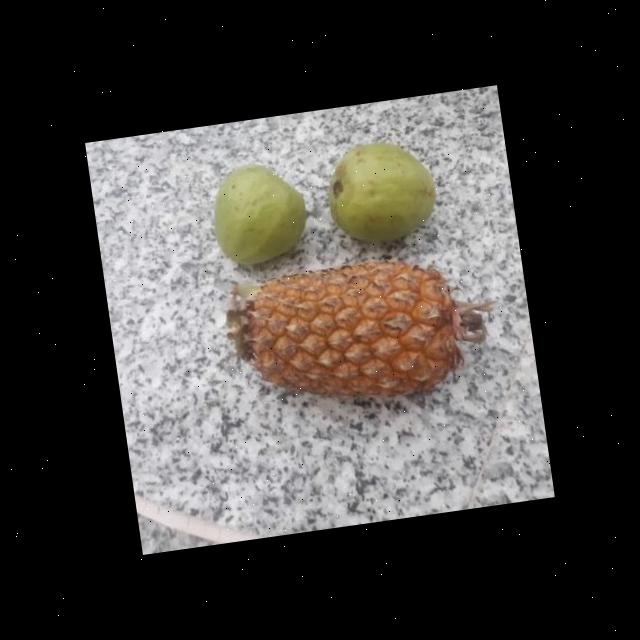guava: (318, 136, 441, 248), (202, 158, 312, 266)
pineapple: (222, 244, 478, 416)
